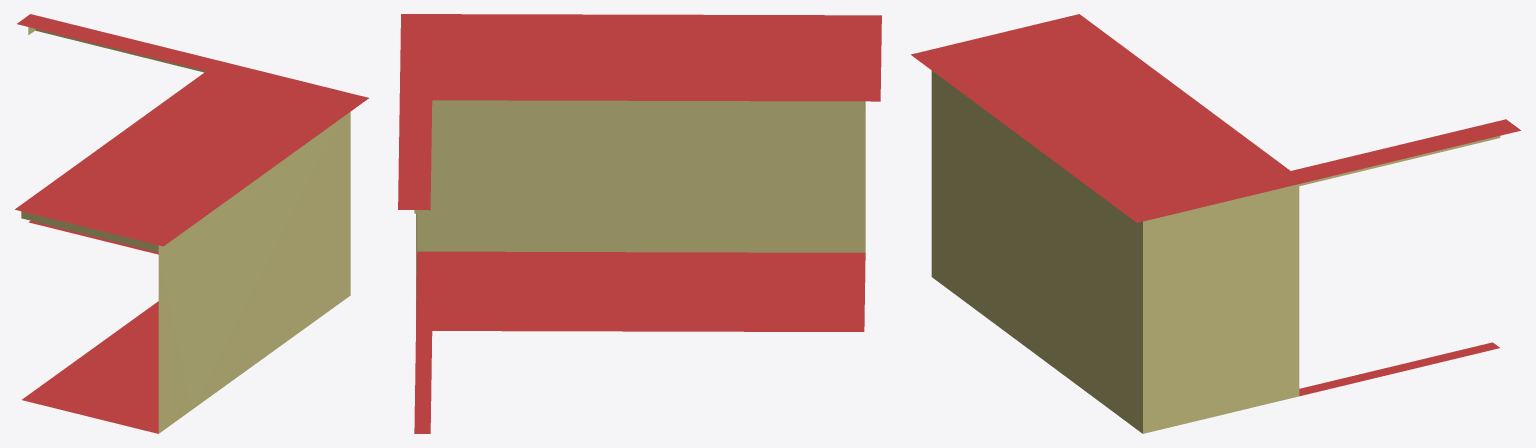
3 renders of one model, left to right at view 1: azimuth 30°, elevation 25°; view 2: azimuth 150°, elevation 25°; view 3: azimuth 270°, elevation 25°, orthographic. The views are drawn at different scales.
Bounding box in the file's own units: 15.97 × 19.73 × 7.83.
